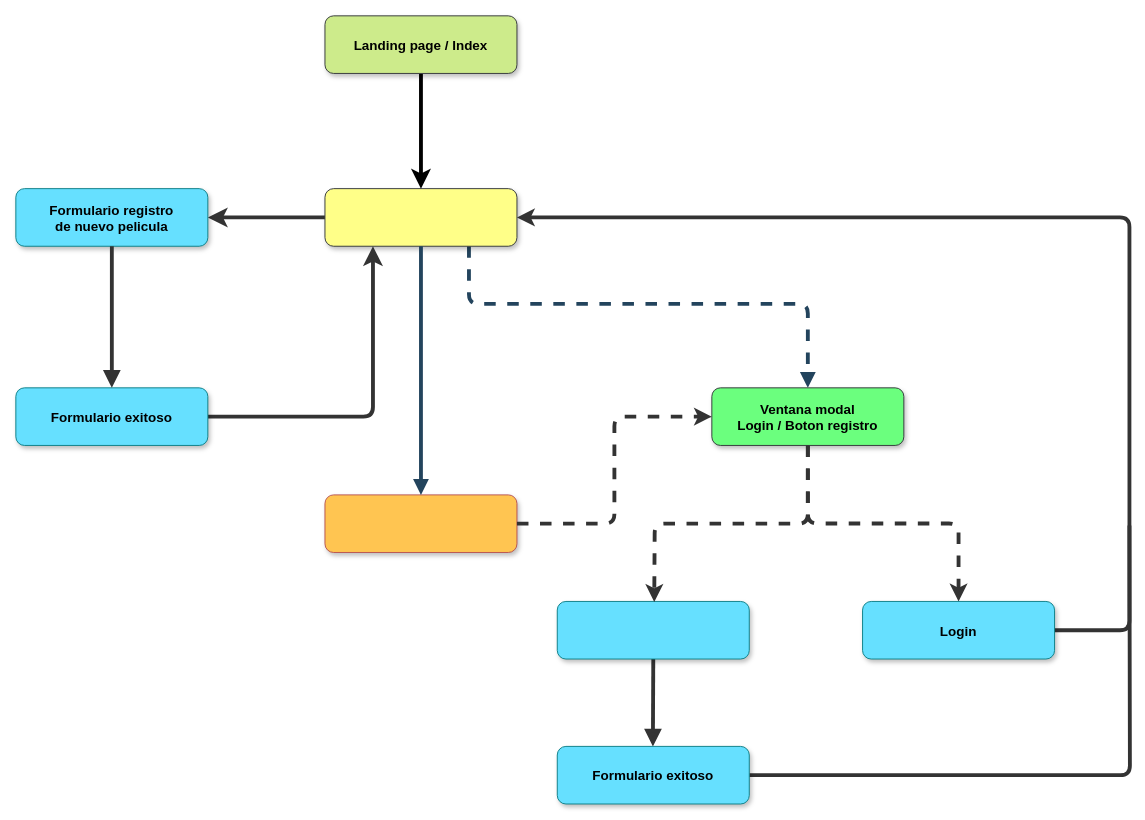
Image size: 1145x820. Some labels were removed from this diagram. Each missing label, with the centre of its shape:
"Formulario registro de nuevo usuario" goes at (x=653, y=631).
"Pagina pelicula" goes at (x=421, y=524).
"principal page" goes at (x=421, y=218).
